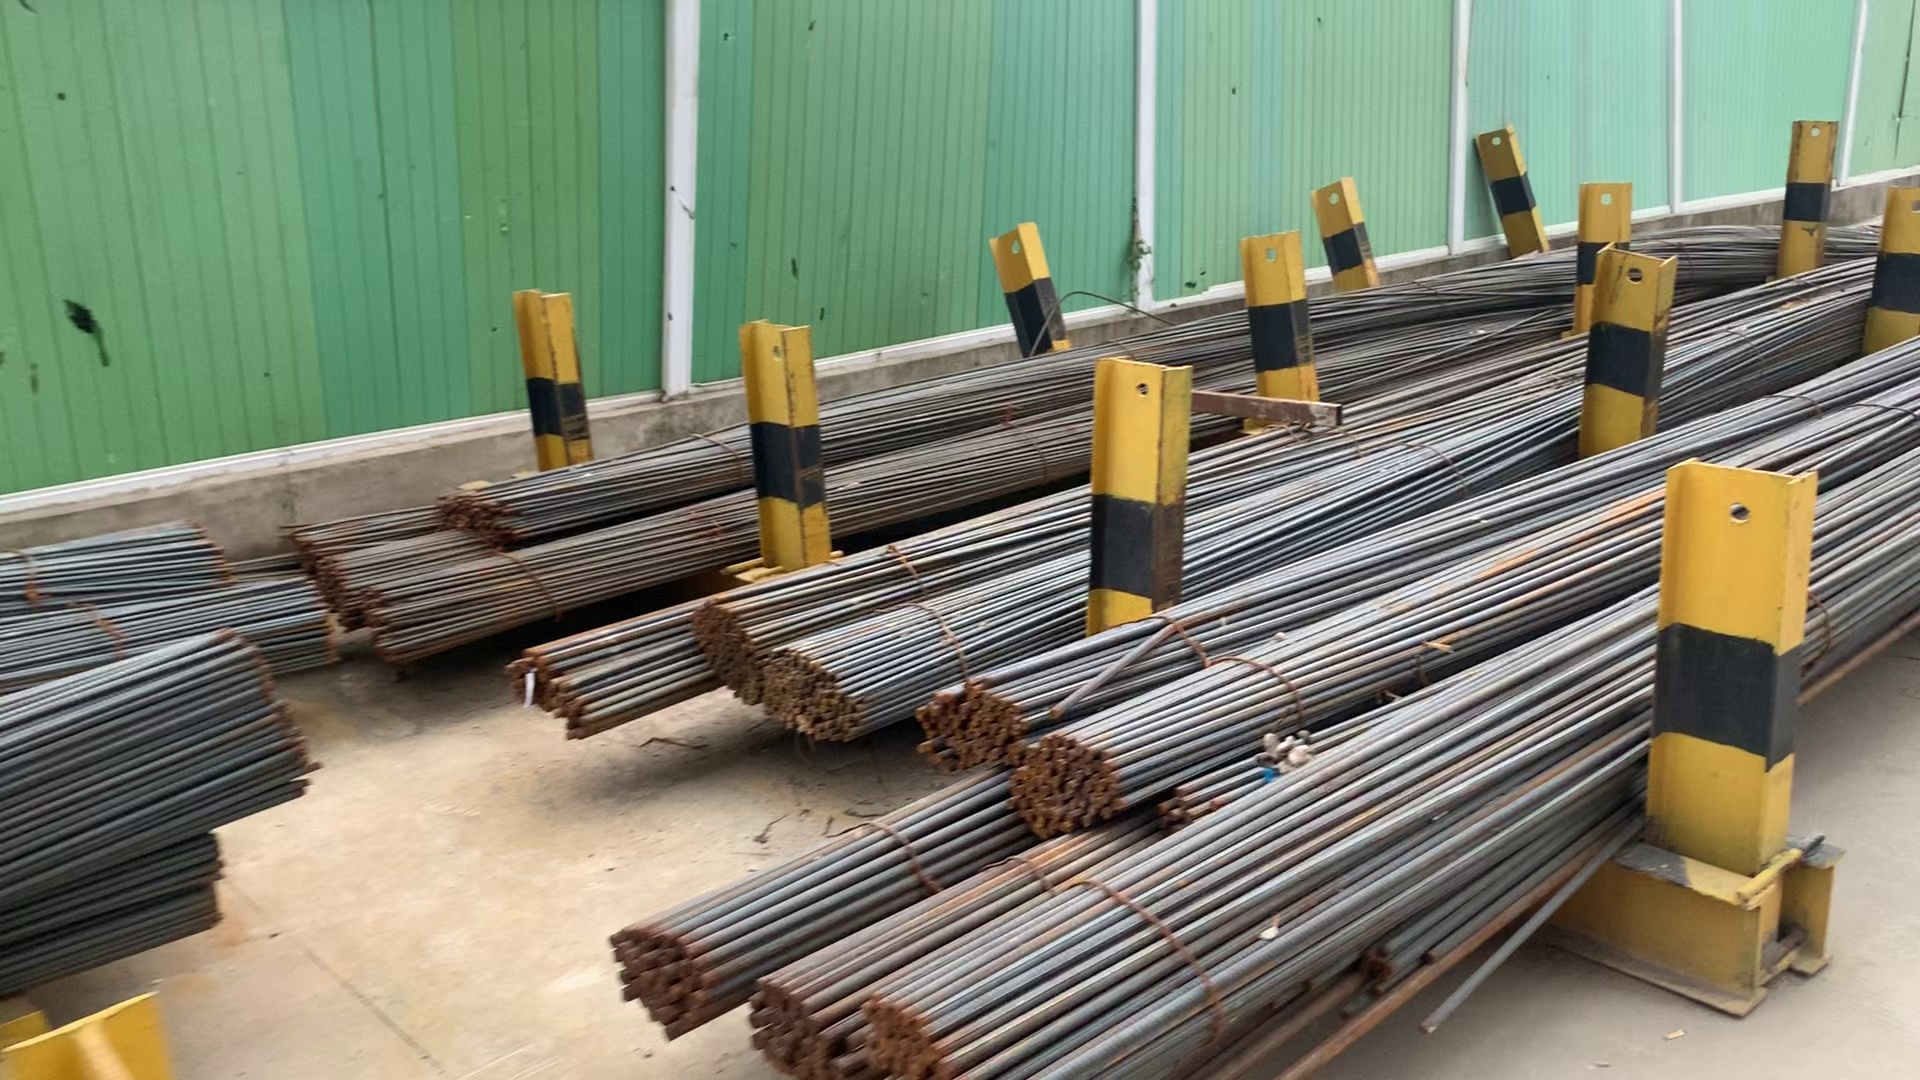rebar: (612, 924, 711, 1038), (746, 973, 843, 1080), (860, 989, 969, 1080), (1011, 749, 1127, 831), (911, 691, 1018, 775), (762, 654, 857, 742), (691, 603, 758, 707), (516, 647, 592, 738), (447, 489, 527, 549), (365, 595, 404, 670), (316, 554, 357, 622)
